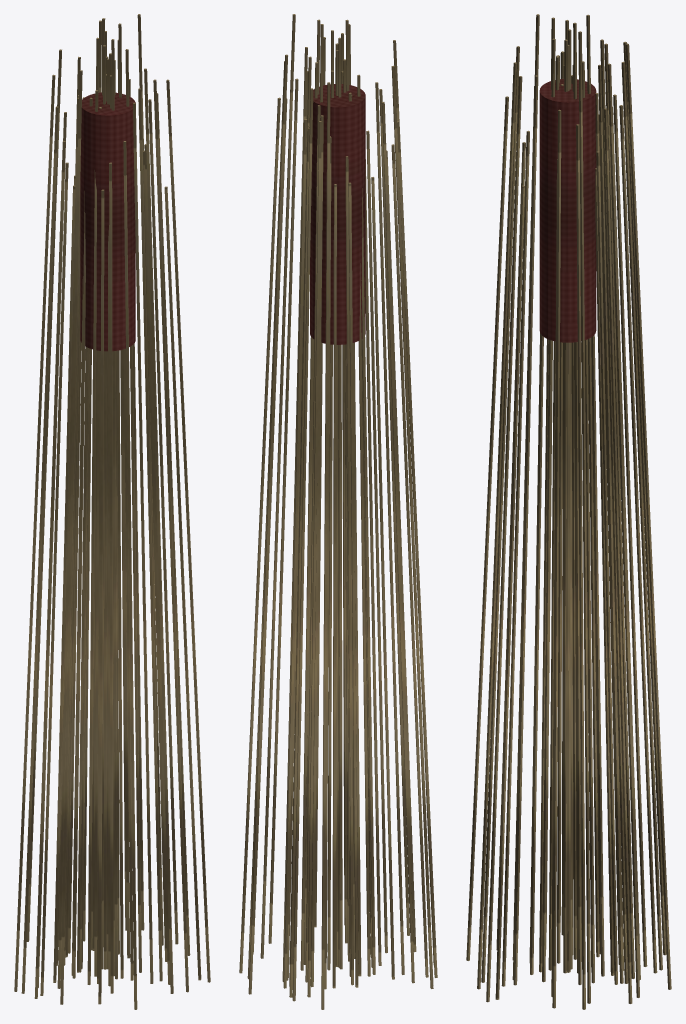
The model's file is K20_GrassBroom.glb.
The picture shows the model from 3 angles, left to right: view 1: azimuth 30°, elevation 25°; view 2: azimuth 150°, elevation 25°; view 3: azimuth 270°, elevation 25°; orthographic projection.
Visible parts, largest first — view 1: K20_GrassBroom; view 2: K20_GrassBroom; view 3: K20_GrassBroom.
Boxes of the visible parts, bbox=[...] form: K20_GrassBroom: bbox=[14, 14, 210, 1009]; K20_GrassBroom: bbox=[239, 14, 437, 1009]; K20_GrassBroom: bbox=[466, 14, 671, 1009].
Bounding box in the file's own units: 0.2306 × 1.2 × 0.2328.
Materials: 2 (2 with a texture image).
